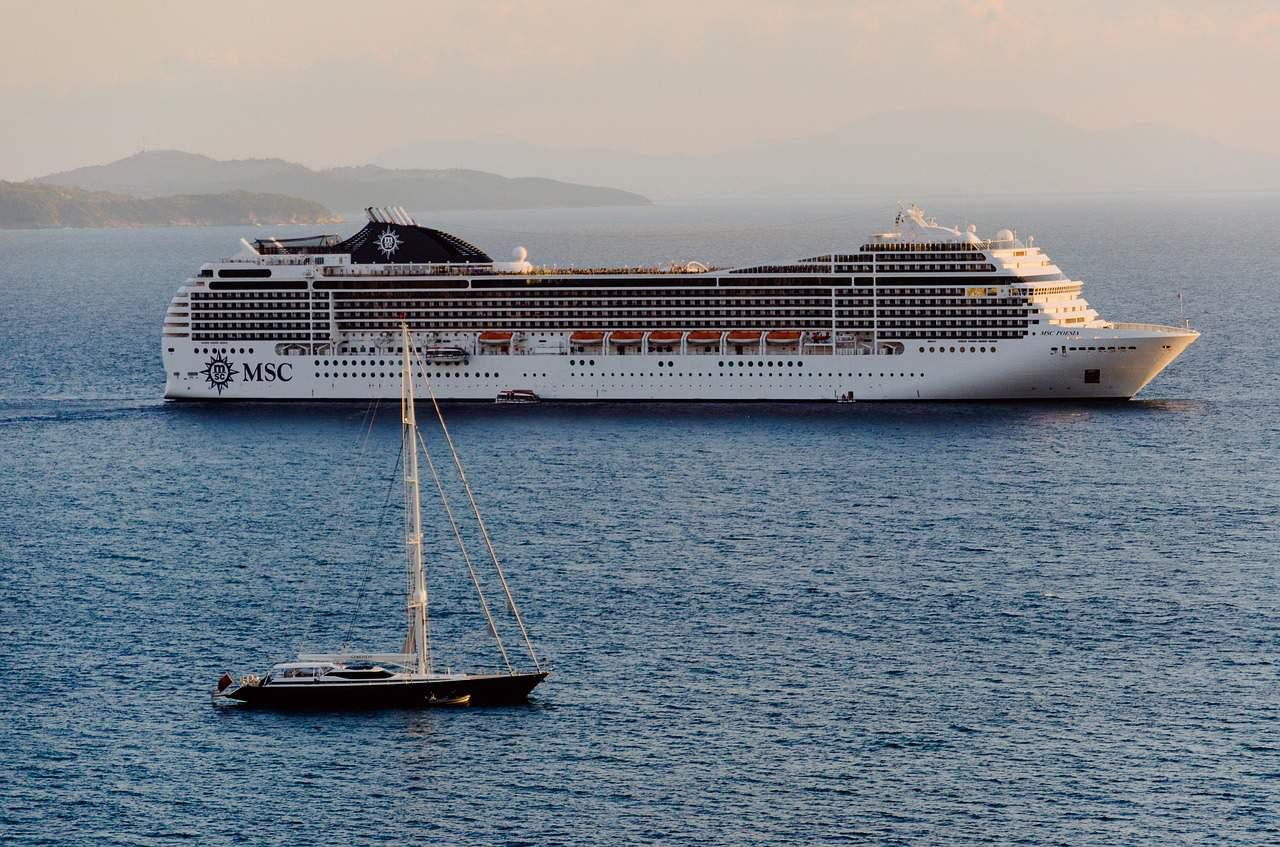Ship: (159, 206, 1200, 411), (217, 316, 550, 709)
